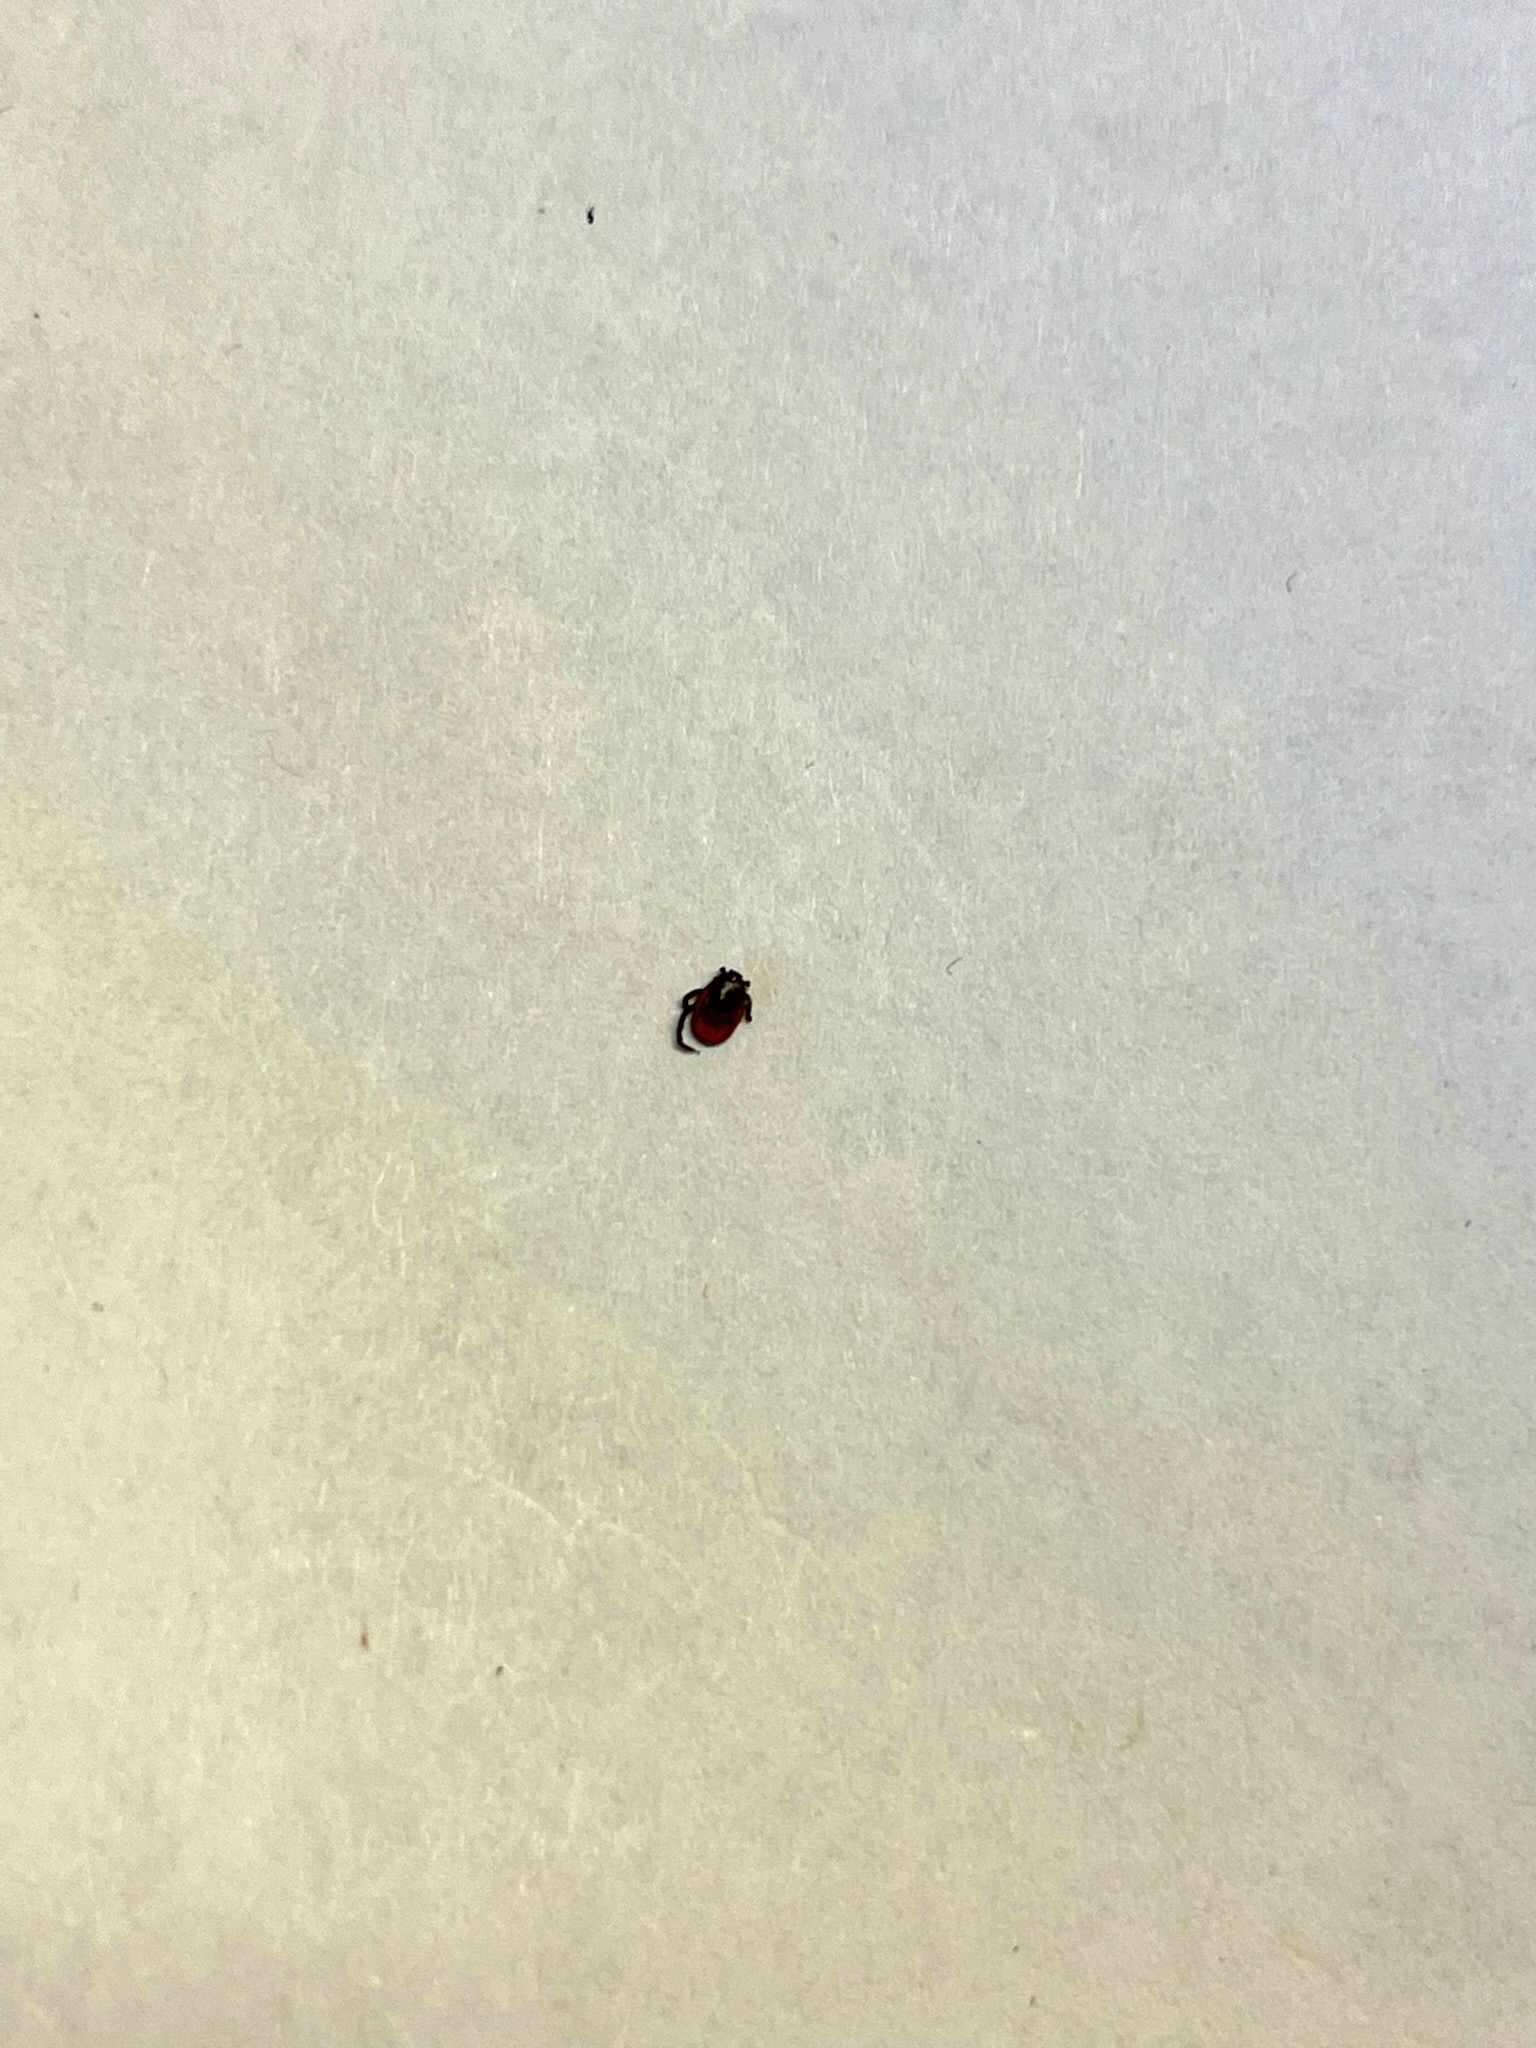unlabelled_tick: (654, 948, 761, 1072)
